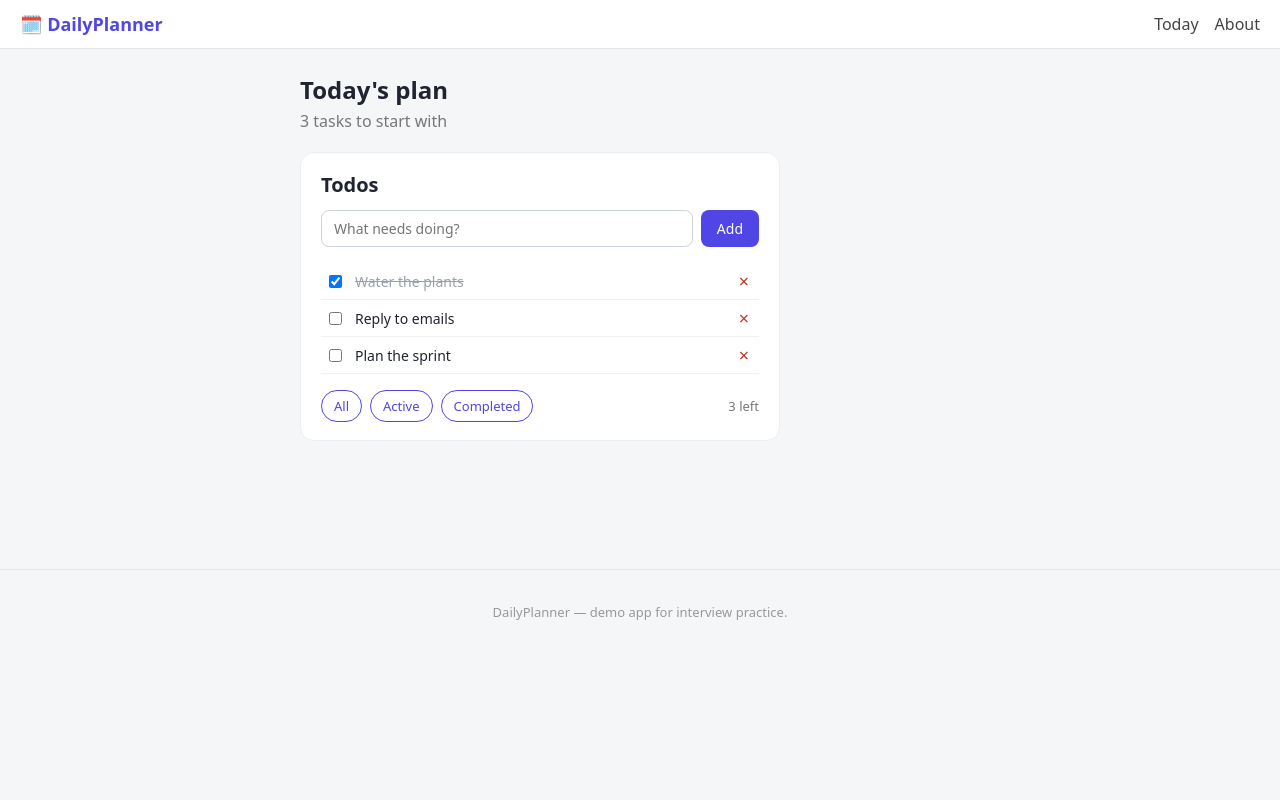
m06 · DailyPlanner — app renders › navigates to the About route via the navbar
This screenshot has width=1280, height=800.
Click the link with test id "nav-about".
click(1237, 24)  # box [1215,13,1260,35]
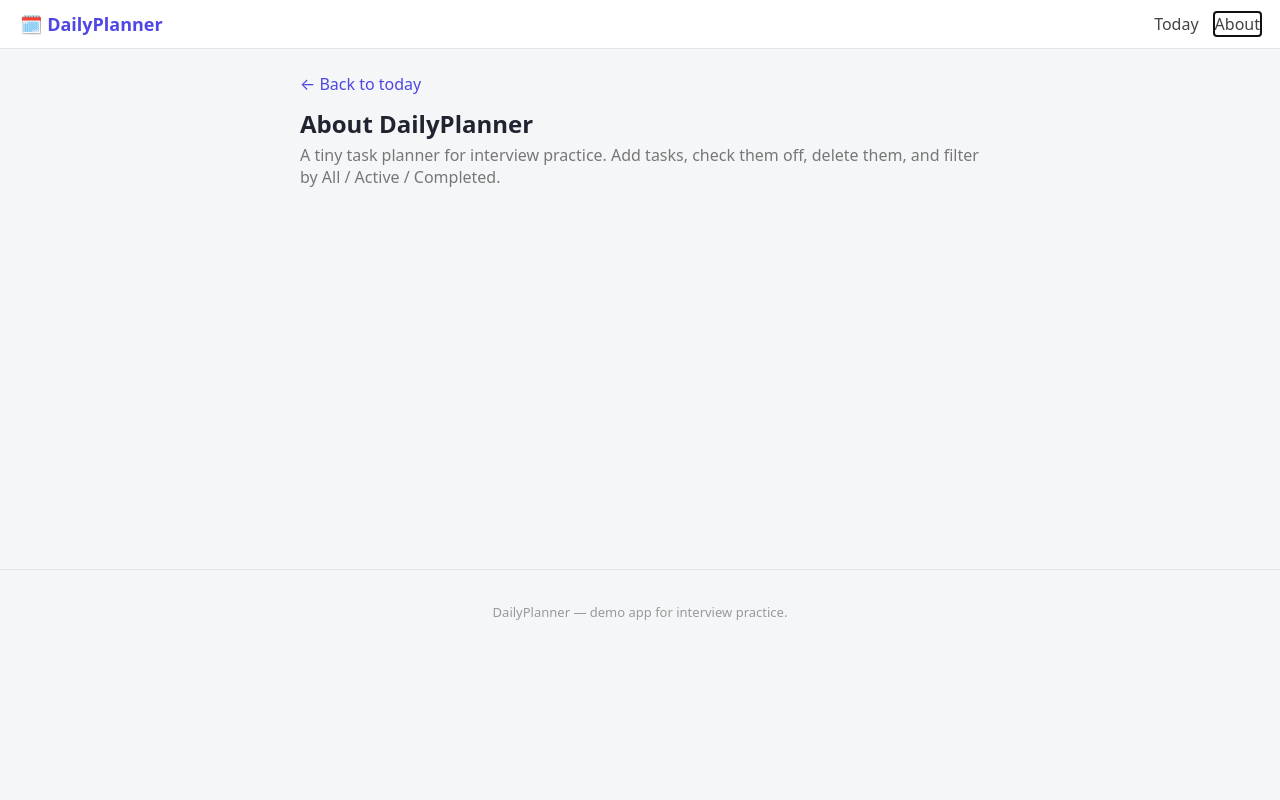
Now the element with test id "about-page" is shown, box [280,49,1000,232]
